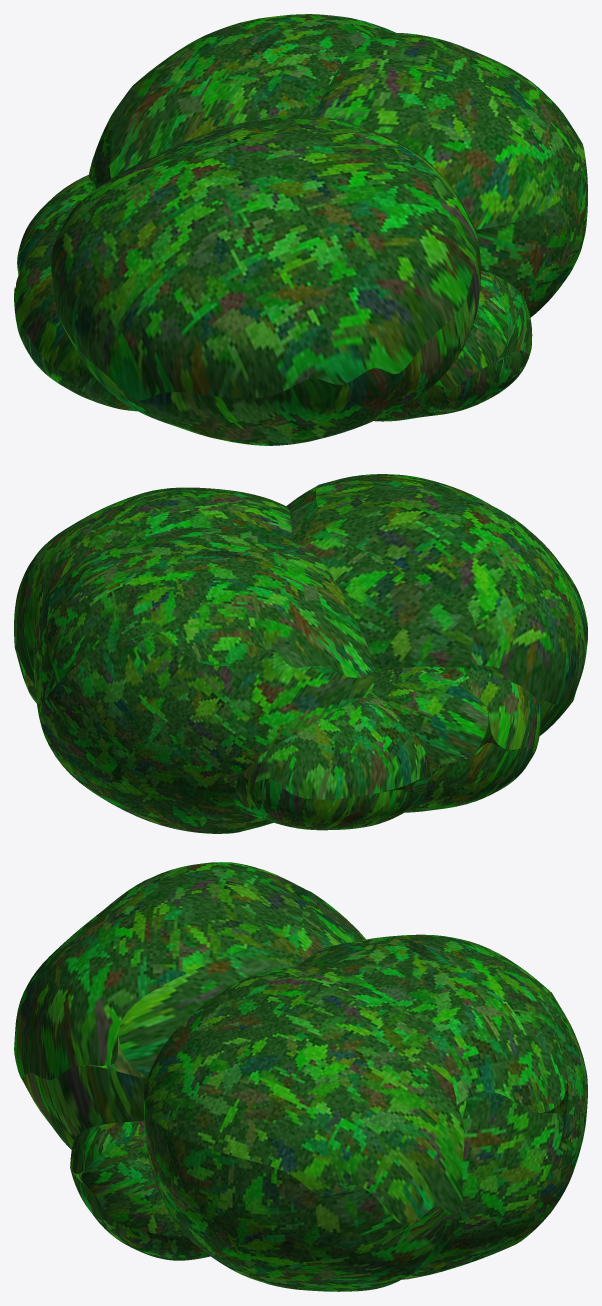
File: plant_bushRound.glb
The picture shows the model from 3 angles, top to bottom: view 1: azimuth 30°, elevation 25°; view 2: azimuth 150°, elevation 25°; view 3: azimuth 270°, elevation 25°; orthographic projection. The views are drawn at different scales.
Parts seen in each view (by area): view 1: Canopy_0; view 2: Canopy_0; view 3: Canopy_0.
Part boxes in pixels (x1=…): Canopy_0: x1=14, y1=14, x2=587, y2=445; Canopy_0: x1=14, y1=474, x2=587, y2=833; Canopy_0: x1=14, y1=862, x2=587, y2=1291.
Size of the model in its own units: 1.95 by 1.06 by 1.81.
1 material, 1 textured.
